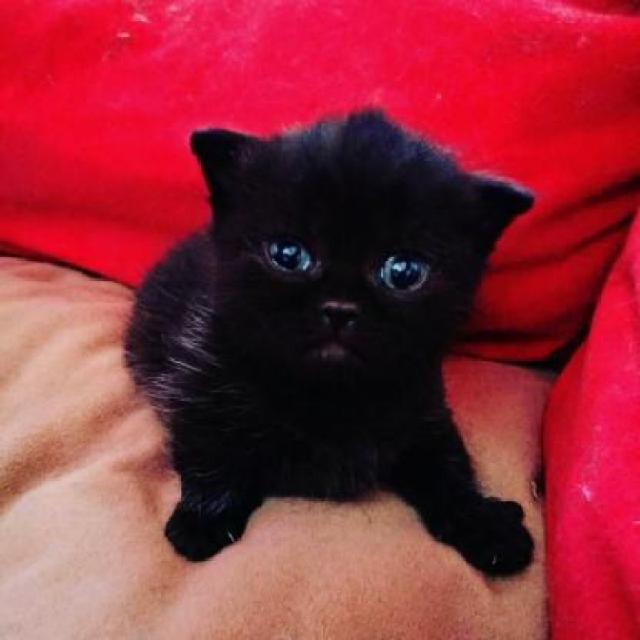cat: (99, 102, 564, 553)
